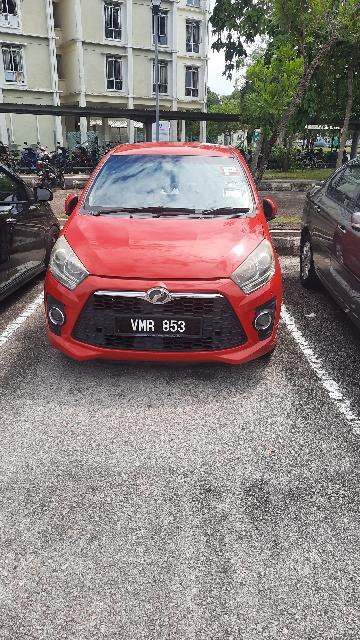License_Plate: (109, 312, 207, 342)
car: (40, 141, 288, 366)
